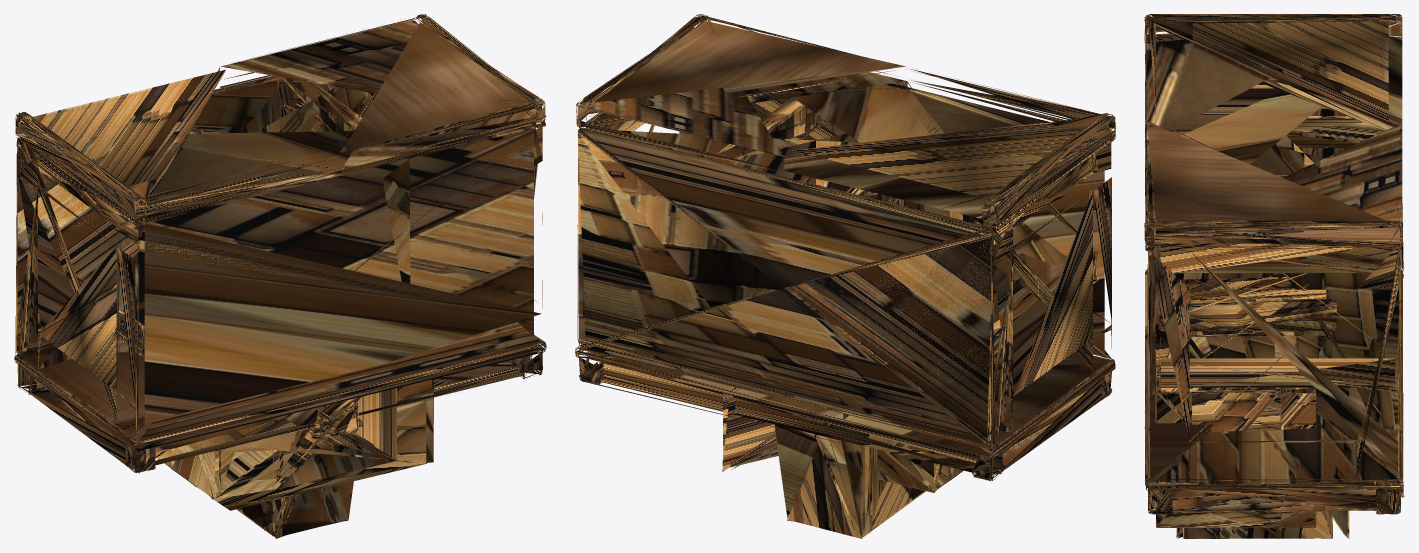
3 renders of one model, left to right at view 1: azimuth 30°, elevation 25°; view 2: azimuth 150°, elevation 25°; view 3: azimuth 270°, elevation 25°, orthographic. The views are drawn at different scales.
Visible parts, largest first — view 1: vintage_wooden_drawer_01_body, vintage_wooden_drawer_01_drawer03, vintage_wooden_drawer_01_drawer05, vintage_wooden_drawer_01_drawer06, vintage_wooden_drawer_01_drawer02; view 2: vintage_wooden_drawer_01_body, vintage_wooden_drawer_01_drawer01, vintage_wooden_drawer_01_drawer05, vintage_wooden_drawer_01_drawer02, vintage_wooden_drawer_01_drawer04; view 3: vintage_wooden_drawer_01_body, vintage_wooden_drawer_01_drawer02, vintage_wooden_drawer_01_drawer04, vintage_wooden_drawer_01_drawer03, vintage_wooden_drawer_01_drawer01, vintage_wooden_drawer_01_drawer06, vintage_wooden_drawer_01_drawer05.
Boxes of the visible parts, x1=… form: vintage_wooden_drawer_01_body: x1=14, y1=14, x2=546, y2=473; vintage_wooden_drawer_01_drawer03: x1=171, y1=379, x2=433, y2=510; vintage_wooden_drawer_01_drawer05: x1=272, y1=388, x2=397, y2=489; vintage_wooden_drawer_01_drawer06: x1=271, y1=419, x2=353, y2=538; vintage_wooden_drawer_01_drawer02: x1=236, y1=421, x2=276, y2=536; vintage_wooden_drawer_01_body: x1=575, y1=14, x2=1115, y2=481; vintage_wooden_drawer_01_drawer01: x1=774, y1=424, x2=925, y2=538; vintage_wooden_drawer_01_drawer05: x1=722, y1=387, x2=848, y2=471; vintage_wooden_drawer_01_drawer02: x1=865, y1=446, x2=925, y2=532; vintage_wooden_drawer_01_drawer04: x1=877, y1=449, x2=963, y2=492; vintage_wooden_drawer_01_body: x1=1144, y1=14, x2=1403, y2=514; vintage_wooden_drawer_01_drawer02: x1=1183, y1=278, x2=1332, y2=538; vintage_wooden_drawer_01_drawer04: x1=1191, y1=373, x2=1316, y2=527; vintage_wooden_drawer_01_drawer03: x1=1155, y1=350, x2=1281, y2=527; vintage_wooden_drawer_01_drawer01: x1=1199, y1=279, x2=1349, y2=538; vintage_wooden_drawer_01_drawer06: x1=1176, y1=277, x2=1323, y2=538; vintage_wooden_drawer_01_drawer05: x1=1144, y1=322, x2=1404, y2=497.
Size of the model in its own units: 0.8576 by 0.7667 by 0.4433.
Materials: 1 (1 with a texture image).
